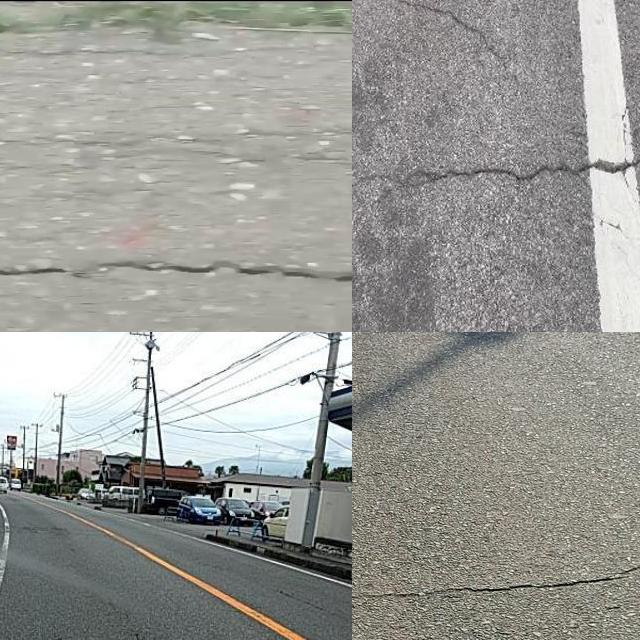Melintang: (352, 553, 640, 621), (0, 248, 352, 303), (362, 0, 539, 100), (352, 143, 640, 203)
